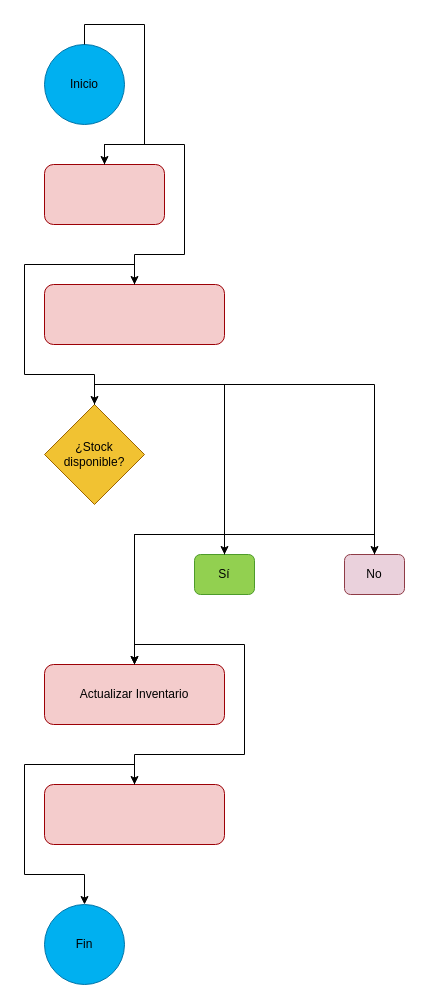
Image size: 422x1002. Some labels were removed from this diagram. The box of each missing label's shape, as (x1, y1, x2, y2) in pixels:
Generar Reporte de Productos Disponibles: (44, 784, 224, 844)
Solicitud del Cliente: (44, 164, 164, 224)
Verificar Disponibilidad de Stock: (44, 284, 224, 344)
